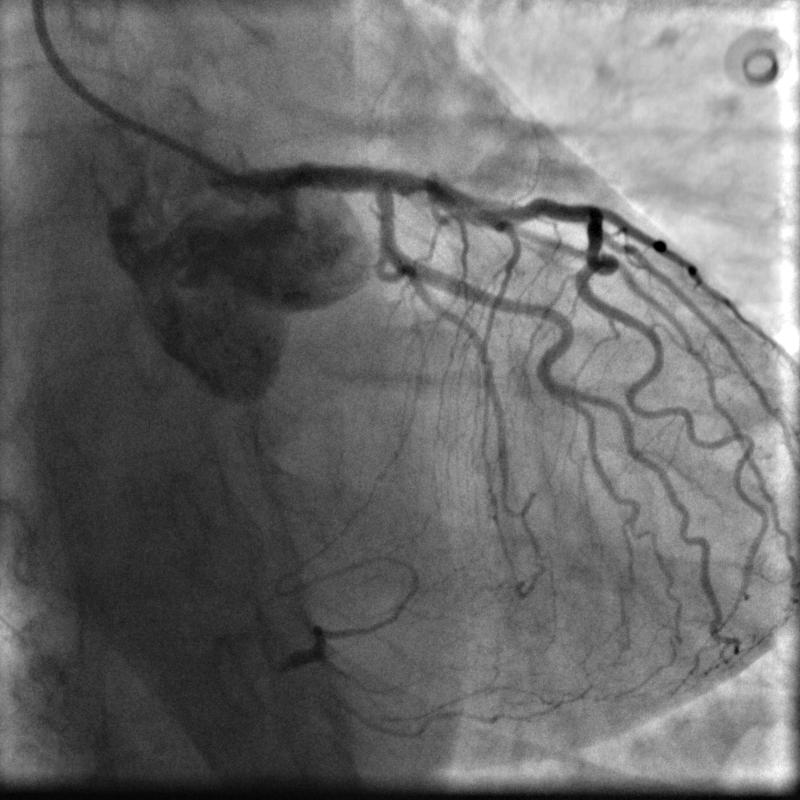Stenosis: (404, 168, 437, 198)
